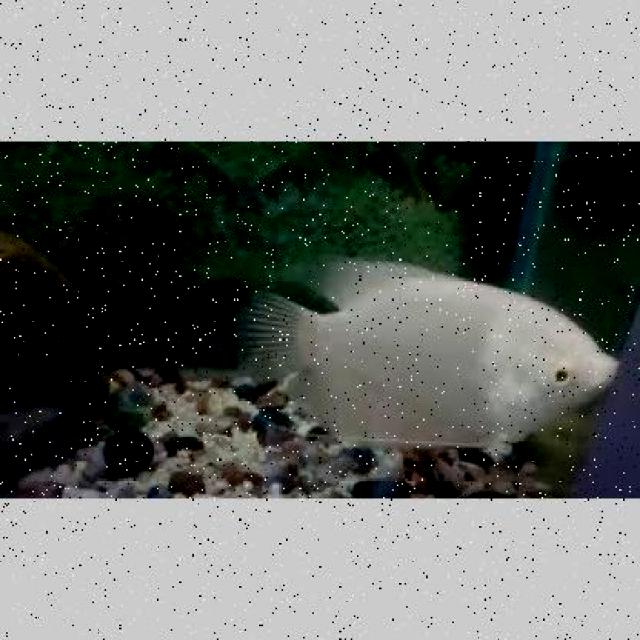gurame: (260, 280, 620, 452)
